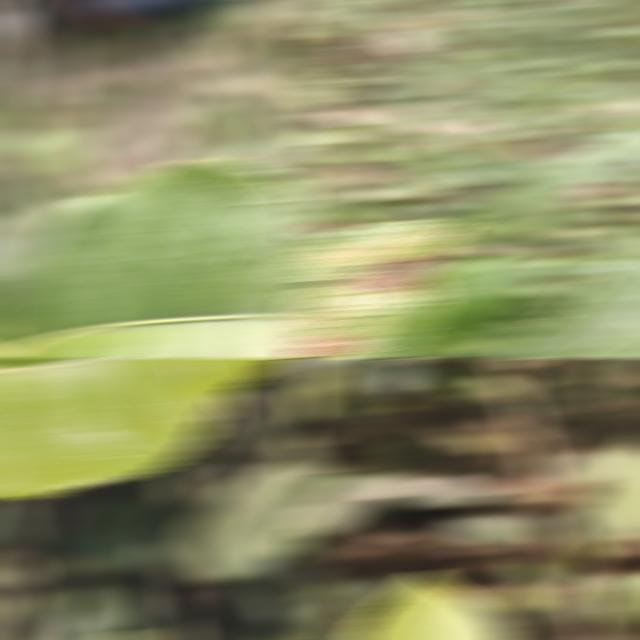Leaf: (0, 157, 309, 358), (0, 358, 287, 498), (291, 220, 467, 358), (175, 462, 303, 583), (496, 253, 640, 358), (389, 255, 534, 356), (291, 474, 507, 528), (567, 438, 640, 568), (67, 494, 172, 566), (439, 512, 543, 547), (589, 571, 640, 632), (291, 435, 327, 502), (364, 358, 418, 400), (85, 628, 179, 640)
